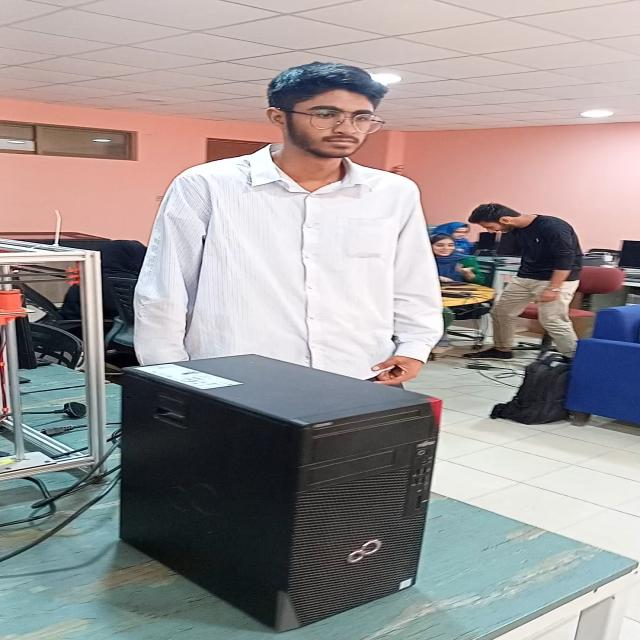dress: (133, 140, 443, 398)
glasses: (298, 103, 394, 139)
